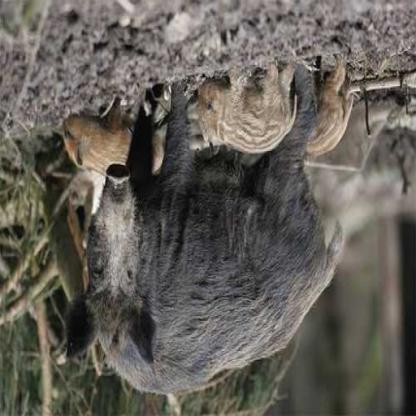boar: (61, 51, 372, 401)
